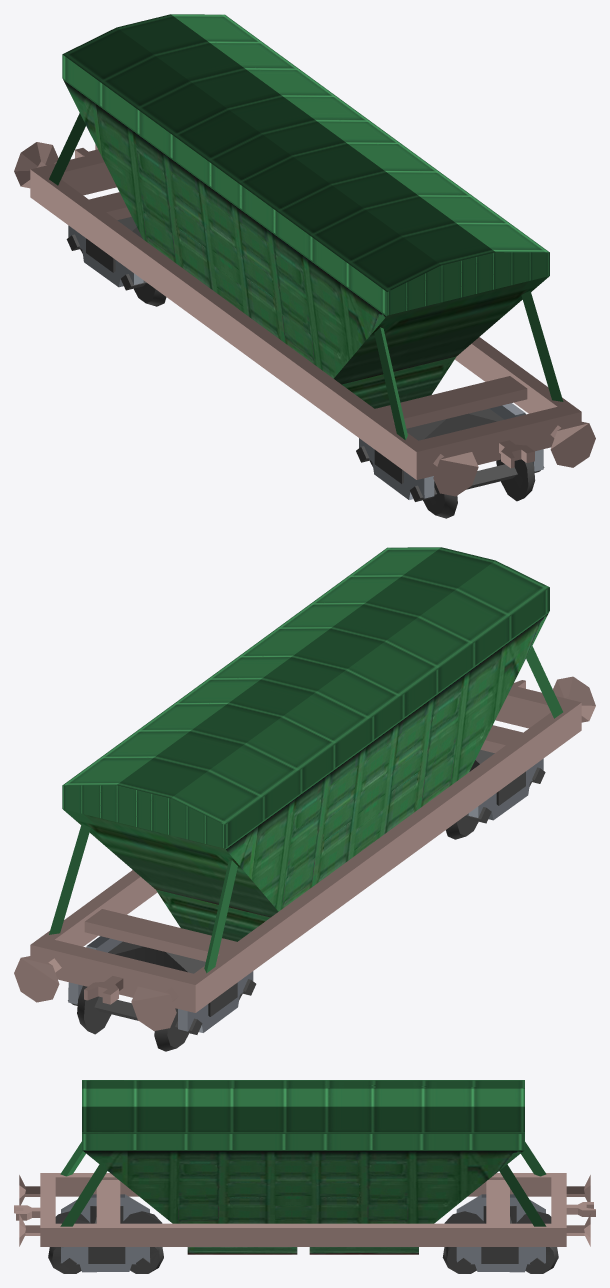
The model's file is hoppercar.dae.
3 views of the same model, one above another, from view 1: azimuth 30°, elevation 25°; view 2: azimuth 150°, elevation 25°; view 3: azimuth 270°, elevation 25° (orthographic). The views are drawn at different scales.
Parts seen in each view (by area): view 1: 9.0.242.0_Pts_Material_Surf, 9.0.242.0_Pts_Material__4__Surf, 9.0.242.0_Pts_Material__2__Surf, 9.0.242.0_Pts_Material__3__Surf; view 2: 9.0.242.0_Pts_Material_Surf, 9.0.242.0_Pts_Material__4__Surf, 9.0.242.0_Pts_Material__2__Surf, 9.0.242.0_Pts_Material__3__Surf; view 3: 9.0.242.0_Pts_Material_Surf, 9.0.242.0_Pts_Material__4__Surf, 9.0.242.0_Pts_Material__2__Surf, 9.0.242.0_Pts_Material__3__Surf.
Boxes of the visible parts, left/top/right/bottom form: 9.0.242.0_Pts_Material_Surf: left=49, top=14, right=563, bottom=439; 9.0.242.0_Pts_Material__4__Surf: left=14, top=142, right=595, bottom=496; 9.0.242.0_Pts_Material__2__Surf: left=66, top=216, right=544, bottom=518; 9.0.242.0_Pts_Material__3__Surf: left=68, top=225, right=543, bottom=499; 9.0.242.0_Pts_Material_Surf: left=49, top=547, right=562, bottom=973; 9.0.242.0_Pts_Material__4__Surf: left=14, top=676, right=595, bottom=1030; 9.0.242.0_Pts_Material__2__Surf: left=68, top=749, right=545, bottom=1051; 9.0.242.0_Pts_Material__3__Surf: left=68, top=758, right=543, bottom=1032; 9.0.242.0_Pts_Material_Surf: left=60, top=1080, right=546, bottom=1254; 9.0.242.0_Pts_Material__4__Surf: left=14, top=1173, right=595, bottom=1246; 9.0.242.0_Pts_Material__2__Surf: left=48, top=1206, right=558, bottom=1273; 9.0.242.0_Pts_Material__3__Surf: left=60, top=1194, right=545, bottom=1272.
Bounding box in the file's own units: 31.97 × 44.67 × 143.
4 materials, 1 textured.
